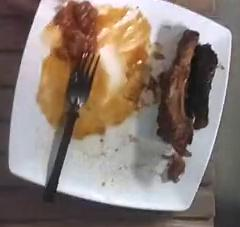beans: (48, 2, 98, 64)
ribs: (156, 28, 216, 155)
